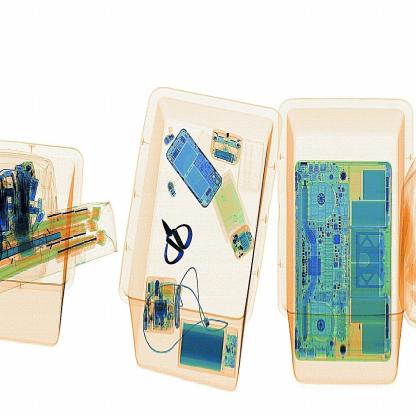gun: (152, 212, 204, 270)
